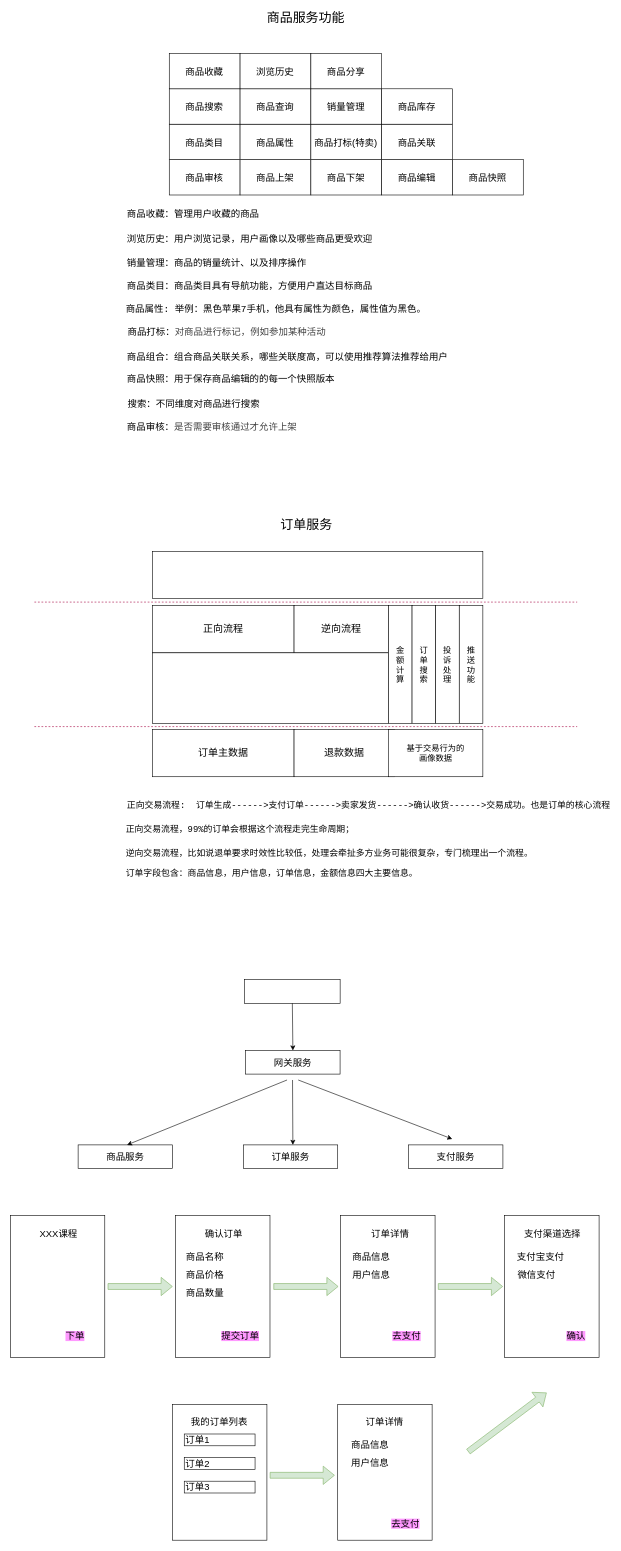
Some shapes in this 621 by 1551 pixel diagram are drawn without their labels. Here are the shapes that lost their labels. From the top down, the centre of each, then its label:
At pixel 317 575: "用户服务".
At pixel 270 688: "状态机".
At pixel 292 991: "客户端/业务系统".
